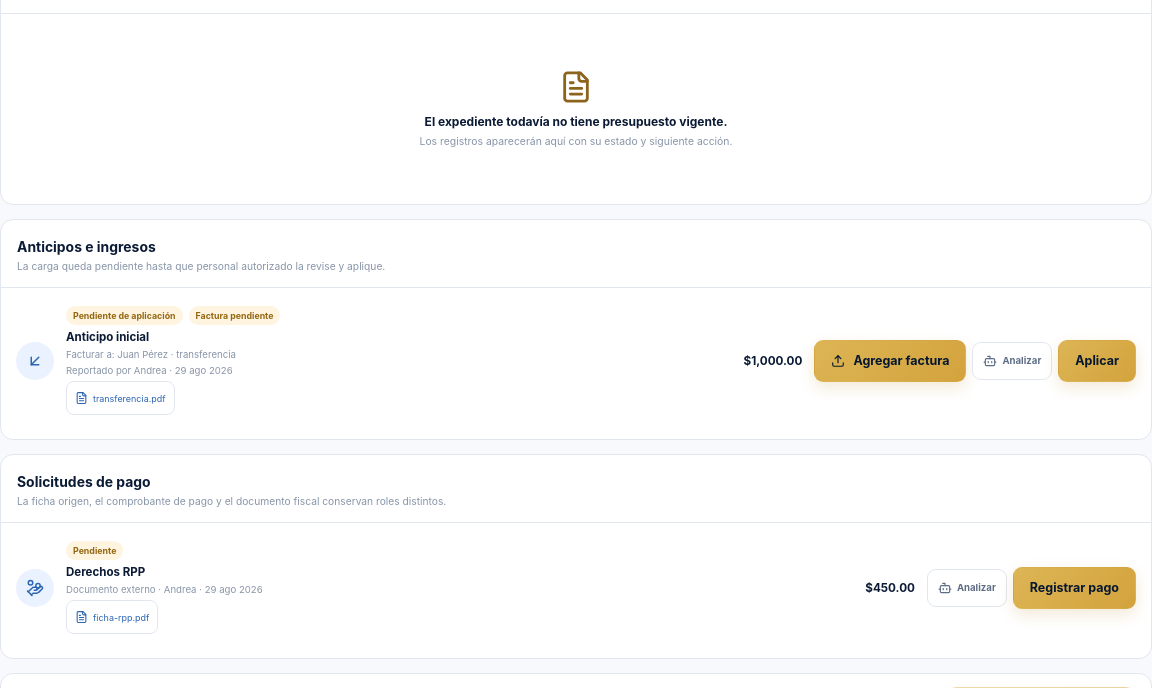
Test: EXP-008 · Finanzas del expediente UI › muestra estado pendiente y acción administrativa para completar factura
(page scrolled)
Expected: the text "Factura pendiente" is shown, [188,306,280,325]
Click the button "Agregar factura" at (890, 360), box [814,340,966,382]
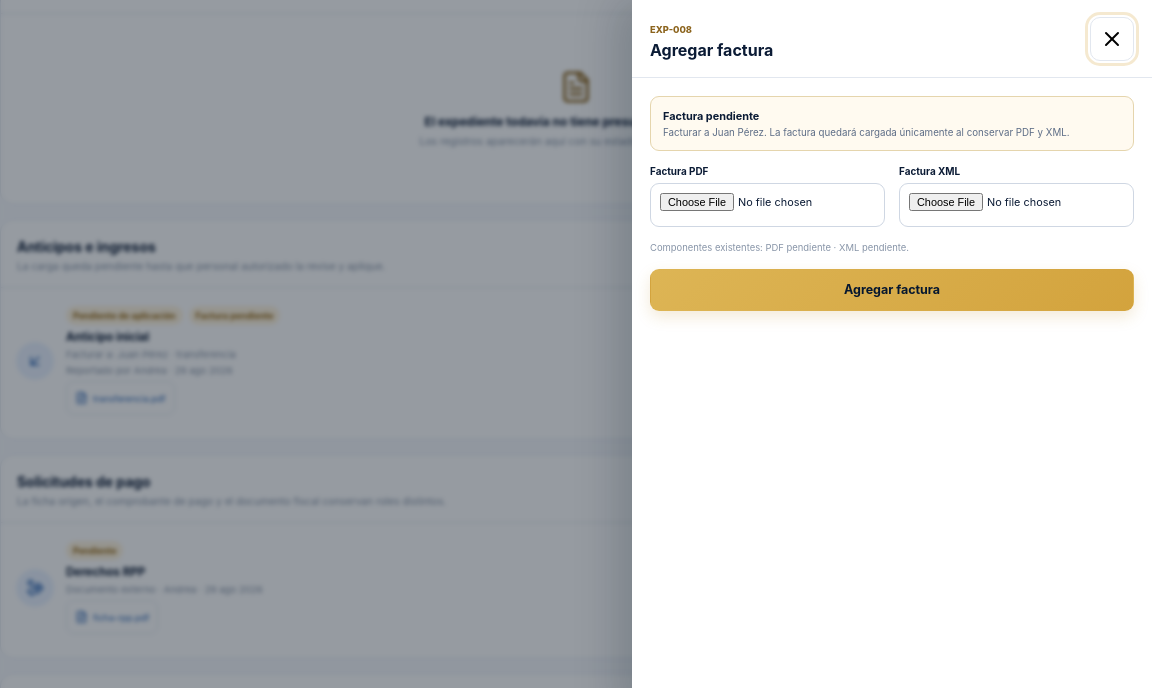
Now the file field labelled "Factura PDF" is shown, box [650,183,885,227]
Now the file field labelled "Factura XML" is shown, box [899,183,1134,227]
